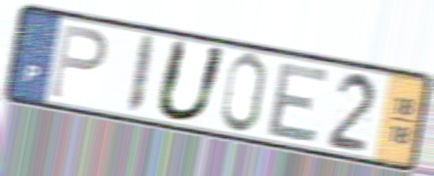0: (219, 50, 268, 136)
2: (324, 70, 379, 158)
E: (264, 61, 332, 145)
I: (123, 33, 158, 118)
P: (48, 21, 110, 102)
U: (152, 36, 231, 125)
